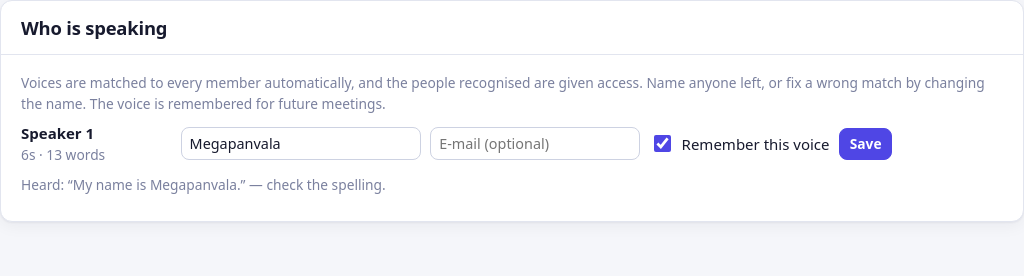
Test: a name said in the recording is filled in › does not offer a spelling fix when you keep the spelling that was heard
The width and height of the screenshot is (1024, 276).
expect the text "Heard: “My name is Megapanvala.” — check the spelling." is shown: met, box [21, 175, 386, 194]
expect the checkbox labelled "Also change" is not shown: met
Step 1. Replace the text in the field named "Name for Speaker 1" with "Megha Panwala" → [301, 144], box [181, 127, 421, 160]
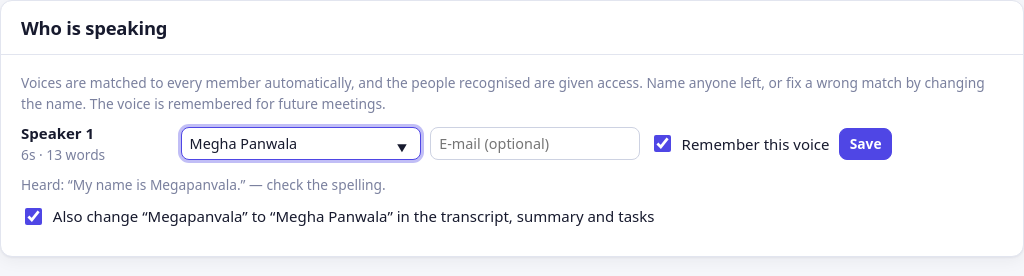
expect the checkbox labelled "Also change “Megapanvala” to “Megha Panwala”" is shown: met, box [25, 208, 42, 225]
